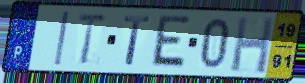0: (199, 17, 233, 71)
E: (148, 13, 193, 71)
H: (229, 15, 276, 76)
I: (52, 10, 71, 68)
T: (75, 12, 110, 67), (122, 15, 153, 68)
